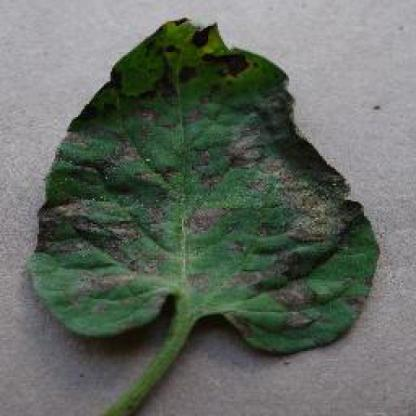Tomato_Blight: (30, 21, 379, 355)
